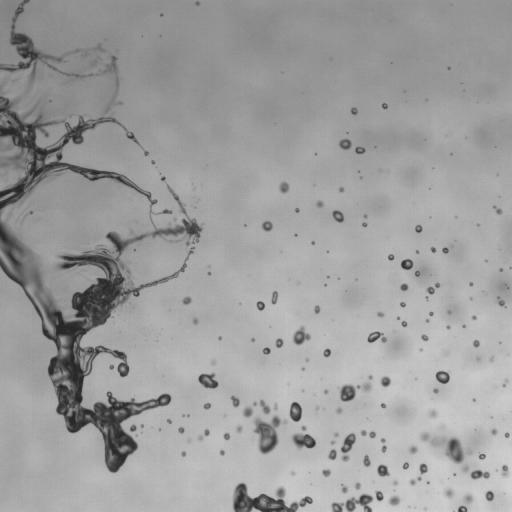droplet: (251, 414, 287, 453), (291, 433, 316, 450), (292, 325, 311, 345), (198, 372, 218, 388), (288, 400, 302, 421), (367, 331, 387, 343), (435, 370, 451, 383), (425, 282, 440, 294), (387, 495, 402, 506), (400, 258, 413, 270), (377, 464, 390, 476), (332, 210, 344, 222), (278, 181, 289, 194), (339, 138, 351, 149), (380, 376, 391, 388), (443, 487, 454, 499), (500, 464, 509, 478), (31, 40, 42, 51), (10, 52, 21, 63), (109, 106, 120, 117), (6, 175, 17, 186), (186, 209, 197, 220), (156, 217, 167, 228), (383, 312, 394, 323), (282, 334, 293, 345), (78, 336, 89, 347), (46, 345, 57, 356), (95, 352, 106, 363), (41, 375, 52, 386), (80, 382, 91, 393), (115, 391, 126, 402), (81, 398, 92, 409), (430, 398, 441, 409), (252, 406, 263, 417), (278, 408, 289, 419), (55, 415, 66, 426), (119, 419, 130, 430), (244, 419, 255, 430), (290, 421, 301, 432), (83, 422, 94, 433), (274, 425, 285, 436), (186, 426, 197, 437), (210, 429, 221, 440), (94, 438, 105, 449), (458, 438, 469, 449), (461, 454, 472, 465), (408, 464, 419, 475), (489, 469, 500, 480), (246, 487, 257, 498), (224, 491, 235, 502), (336, 492, 347, 503), (452, 495, 463, 506), (261, 221, 273, 231), (230, 395, 240, 407), (327, 448, 337, 460), (362, 454, 370, 467), (374, 490, 383, 501), (485, 490, 494, 501), (492, 205, 502, 214), (256, 301, 265, 311), (428, 408, 437, 418), (275, 337, 283, 348), (182, 296, 191, 305), (408, 445, 417, 454), (5, 91, 14, 100), (81, 129, 90, 138), (114, 165, 123, 174), (125, 171, 134, 180), (168, 200, 177, 209), (398, 290, 407, 299), (451, 322, 460, 331), (371, 377, 380, 386), (262, 414, 271, 423), (171, 419, 180, 428), (443, 431, 452, 440), (335, 437, 344, 446), (219, 439, 228, 448), (414, 439, 423, 448), (439, 440, 448, 449), (270, 446, 279, 455), (324, 459, 333, 468), (369, 460, 378, 469), (452, 462, 461, 471), (446, 479, 455, 488), (436, 483, 445, 492), (368, 499, 377, 508), (355, 146, 365, 154), (400, 283, 409, 291), (323, 348, 331, 357), (222, 432, 231, 440), (322, 468, 330, 477), (341, 483, 348, 493), (505, 295, 511, 306), (353, 505, 364, 511), (388, 505, 399, 511), (313, 305, 320, 314), (235, 424, 242, 433), (350, 107, 357, 115), (415, 225, 422, 233), (472, 339, 479, 347), (262, 347, 270, 354), (203, 402, 211, 409), (129, 424, 137, 431), (177, 426, 185, 433), (502, 378, 508, 387), (272, 402, 278, 411), (316, 200, 323, 207), (421, 334, 428, 341), (490, 428, 497, 435), (402, 462, 409, 469), (354, 482, 361, 489), (14, 26, 21, 33), (25, 30, 32, 37), (4, 33, 11, 40), (87, 53, 94, 60), (54, 61, 61, 68), (90, 66, 97, 73), (95, 123, 102, 130), (127, 125, 134, 132), (348, 145, 355, 152), (147, 152, 154, 159), (70, 158, 77, 165), (78, 160, 85, 167), (81, 161, 88, 168), (133, 178, 140, 185), (140, 183, 147, 190), (287, 185, 294, 192), (273, 186, 280, 193), (151, 204, 158, 211), (435, 245, 442, 252), (394, 257, 401, 264), (263, 298, 270, 305), (465, 318, 472, 325), (292, 324, 299, 331), (47, 339, 54, 346), (268, 342, 275, 349), (481, 355, 488, 362), (114, 357, 121, 364), (125, 358, 132, 365), (43, 359, 50, 366), (82, 375, 89, 382), (350, 379, 357, 386), (337, 380, 344, 387), (435, 381, 442, 388), (196, 382, 203, 389), (205, 386, 212, 393), (354, 388, 361, 395), (80, 389, 87, 396), (334, 389, 341, 396), (135, 395, 142, 402), (51, 399, 58, 406), (265, 399, 272, 406), (237, 403, 244, 410), (422, 408, 429, 415), (141, 409, 148, 416), (268, 409, 275, 416), (436, 409, 443, 416), (57, 414, 64, 421), (432, 416, 439, 423), (298, 417, 305, 424), (128, 430, 135, 437), (428, 430, 435, 437), (496, 430, 503, 437), (253, 432, 260, 439), (354, 432, 361, 439), (374, 432, 381, 439), (190, 433, 197, 440), (289, 441, 296, 448), (254, 449, 261, 456), (267, 449, 274, 456), (335, 450, 342, 457), (125, 454, 132, 461), (118, 464, 125, 471), (469, 464, 476, 471), (421, 472, 428, 479), (231, 479, 238, 486), (382, 494, 389, 501), (294, 495, 301, 502), (442, 496, 449, 503), (459, 499, 466, 506), (284, 500, 291, 507), (192, 317, 198, 325), (335, 407, 343, 413), (478, 453, 486, 459), (295, 506, 304, 511), (324, 506, 333, 511), (381, 102, 387, 109), (430, 246, 436, 253), (442, 247, 449, 253), (414, 270, 420, 277), (401, 320, 407, 327), (442, 350, 449, 356), (439, 423, 446, 429), (219, 449, 225, 456), (388, 254, 394, 260), (210, 359, 216, 365), (0, 68, 4, 77), (377, 312, 384, 317), (489, 355, 494, 362), (338, 187, 344, 192), (400, 302, 406, 307), (471, 315, 477, 320), (323, 389, 328, 395), (433, 388, 439, 393), (380, 403, 386, 408), (166, 418, 172, 423), (301, 425, 306, 431), (333, 432, 339, 437), (181, 451, 186, 457), (392, 480, 398, 485), (507, 380, 511, 387), (507, 466, 511, 473), (340, 507, 347, 511), (362, 222, 367, 227), (310, 240, 315, 245), (428, 311, 433, 316), (504, 432, 509, 437), (330, 440, 335, 445), (290, 470, 295, 475), (22, 3, 27, 8), (9, 11, 14, 16), (7, 20, 12, 25), (6, 26, 11, 31), (92, 41, 97, 46), (100, 43, 105, 48), (70, 45, 75, 50), (98, 51, 103, 56), (55, 52, 60, 57), (62, 55, 67, 60), (23, 57, 28, 62), (106, 58, 111, 63), (47, 59, 52, 64), (114, 59, 119, 64), (52, 61, 57, 66), (28, 64, 33, 69), (100, 65, 105, 70), (72, 68, 77, 73), (4, 69, 9, 74), (83, 69, 88, 74), (117, 72, 122, 77), (118, 79, 123, 84), (2, 93, 7, 98), (114, 96, 119, 101), (386, 102, 391, 107), (356, 106, 361, 111), (103, 112, 108, 117), (114, 115, 119, 120), (102, 121, 107, 126), (120, 129, 125, 134), (133, 133, 138, 138), (341, 134, 346, 139), (345, 134, 350, 139), (67, 138, 72, 143), (128, 138, 133, 143), (334, 139, 339, 144), (359, 142, 364, 147), (338, 147, 343, 152), (139, 150, 144, 155), (356, 153, 361, 158), (59, 157, 64, 162), (95, 165, 100, 170), (104, 166, 109, 171), (169, 183, 174, 188), (173, 188, 178, 193), (278, 191, 283, 196), (283, 191, 288, 196), (150, 194, 155, 199), (168, 194, 173, 199), (178, 196, 183, 201), (312, 198, 317, 203), (172, 199, 177, 204), (322, 200, 327, 205), (496, 203, 501, 208), (312, 204, 317, 209), (184, 206, 189, 211), (318, 206, 323, 211), (337, 206, 342, 211), (490, 208, 495, 213), (163, 212, 168, 217), (180, 213, 185, 218), (342, 213, 347, 218), (495, 213, 500, 218), (262, 216, 267, 221), (329, 216, 334, 221), (361, 217, 366, 222), (270, 219, 275, 224), (333, 220, 338, 225), (178, 221, 183, 226), (259, 228, 264, 233), (265, 230, 270, 235), (193, 242, 198, 247), (188, 253, 193, 258), (400, 255, 405, 260), (396, 263, 401, 268), (502, 265, 507, 270), (410, 266, 415, 271), (402, 268, 407, 273), (6, 277, 11, 282), (167, 278, 172, 283), (324, 278, 329, 283), (397, 280, 402, 285), (438, 280, 443, 285), (156, 282, 161, 287), (15, 283, 20, 288), (150, 284, 155, 289), (433, 287, 438, 292), (138, 288, 143, 293), (402, 289, 407, 294), (182, 292, 187, 297), (190, 296, 195, 301), (276, 296, 281, 301), (401, 297, 406, 302), (122, 301, 127, 306), (186, 302, 191, 307), (28, 303, 33, 308), (494, 303, 499, 308), (252, 305, 257, 310), (498, 305, 503, 310), (309, 307, 314, 312), (319, 307, 324, 312), (378, 307, 383, 312), (32, 310, 37, 315), (424, 313, 429, 318), (466, 314, 471, 319), (35, 315, 40, 320), (375, 315, 380, 320), (428, 315, 433, 320), (105, 317, 110, 322), (197, 318, 202, 323), (187, 319, 192, 324), (396, 319, 401, 324), (37, 327, 42, 332), (303, 328, 308, 333), (423, 330, 428, 335), (382, 332, 387, 337), (363, 333, 368, 338), (42, 335, 47, 340), (376, 337, 381, 342), (418, 338, 423, 343), (302, 339, 307, 344), (478, 339, 483, 344), (382, 341, 387, 346), (468, 342, 473, 347), (109, 345, 114, 350), (117, 346, 122, 351), (473, 346, 478, 351), (329, 347, 334, 352), (318, 350, 323, 355), (329, 351, 334, 356), (265, 353, 270, 358), (301, 361, 306, 366), (112, 366, 117, 371), (436, 366, 441, 371), (441, 366, 446, 371), (43, 368, 48, 373), (127, 369, 132, 374), (206, 369, 211, 374), (114, 371, 119, 376), (195, 371, 200, 376), (193, 375, 198, 380), (212, 375, 217, 380), (363, 376, 368, 381), (448, 376, 453, 381), (389, 378, 394, 383), (445, 381, 450, 386), (324, 384, 329, 389), (386, 384, 391, 389), (497, 384, 502, 389), (213, 386, 218, 391), (165, 389, 170, 394), (111, 392, 116, 397), (432, 392, 437, 397), (169, 393, 174, 398), (234, 393, 239, 398), (227, 398, 232, 403), (381, 398, 386, 403), (346, 399, 351, 404), (168, 400, 173, 405), (298, 401, 303, 406), (268, 404, 273, 409), (156, 405, 161, 410), (434, 406, 439, 411), (145, 408, 150, 413), (204, 408, 209, 413), (317, 408, 322, 413), (300, 411, 305, 416), (337, 412, 342, 417), (299, 415, 304, 420), (287, 417, 292, 422), (179, 422, 184, 427), (251, 424, 256, 429), (488, 424, 493, 429), (135, 425, 140, 430), (183, 427, 188, 432), (331, 427, 336, 432), (222, 428, 227, 433), (365, 428, 370, 433), (199, 429, 204, 434), (208, 429, 213, 434), (302, 429, 307, 434), (219, 430, 224, 435), (486, 430, 491, 435), (67, 431, 72, 436), (175, 431, 180, 436), (309, 432, 314, 437), (364, 433, 369, 438), (202, 434, 207, 439), (329, 435, 334, 440), (132, 436, 137, 441), (219, 436, 224, 441), (228, 436, 233, 441), (314, 439, 319, 444), (383, 440, 388, 445), (378, 441, 383, 446), (351, 442, 356, 447), (329, 444, 334, 449), (301, 445, 306, 450), (310, 446, 315, 451), (223, 448, 228, 453), (132, 449, 137, 454), (324, 450, 329, 455), (359, 455, 364, 460), (368, 456, 373, 461), (342, 460, 347, 465), (381, 460, 386, 465), (424, 460, 429, 465), (426, 464, 431, 469), (362, 465, 367, 470), (103, 466, 108, 471), (497, 466, 502, 471), (386, 467, 391, 472), (480, 467, 485, 472), (415, 469, 420, 474), (488, 470, 493, 475), (109, 471, 114, 476), (465, 471, 470, 476), (328, 472, 333, 477), (319, 473, 324, 478), (488, 473, 493, 478), (382, 474, 387, 479), (355, 477, 360, 482), (237, 478, 242, 483), (415, 480, 420, 485), (343, 481, 348, 486), (405, 481, 410, 486), (409, 484, 414, 489), (337, 485, 342, 490), (484, 486, 489, 491), (490, 487, 495, 492), (462, 490, 467, 495), (492, 490, 497, 495), (307, 492, 312, 497), (299, 493, 304, 498), (371, 493, 376, 498), (480, 493, 485, 498), (354, 494, 359, 499), (492, 495, 497, 500), (481, 496, 486, 501), (304, 502, 309, 507), (453, 506, 458, 511), (187, 437, 191, 443), (0, 166, 3, 173), (0, 184, 3, 191), (0, 268, 3, 275), (294, 208, 299, 212), (363, 213, 367, 218), (415, 249, 419, 254), (251, 337, 255, 342), (305, 357, 309, 362), (476, 356, 480, 361), (109, 364, 113, 369), (301, 366, 305, 371), (195, 1, 199, 5), (151, 160, 155, 164), (207, 271, 211, 275), (469, 282, 473, 286), (447, 310, 451, 314), (425, 318, 429, 322), (446, 325, 450, 329), (218, 336, 222, 340), (423, 507, 427, 511), (425, 296, 428, 301), (508, 433, 511, 438), (408, 508, 413, 511), (447, 66, 450, 70), (207, 264, 210, 268), (499, 268, 503, 271), (326, 275, 330, 278), (469, 296, 472, 300), (396, 316, 400, 319), (462, 324, 466, 327), (419, 348, 423, 351), (472, 398, 476, 401), (140, 424, 143, 428), (158, 427, 161, 431), (453, 472, 456, 476), (17, 0, 22, 2), (160, 13, 163, 16), (314, 152, 317, 155), (476, 223, 479, 226), (294, 233, 297, 236), (326, 250, 329, 253), (484, 259, 487, 262), (324, 283, 327, 286), (498, 341, 501, 344), (414, 377, 417, 380), (301, 389, 304, 392), (223, 414, 226, 417), (426, 481, 429, 484), (193, 4, 196, 7), (14, 5, 17, 8), (162, 11, 165, 14), (18, 12, 21, 15), (156, 13, 159, 16), (160, 15, 163, 18), (77, 51, 80, 54), (114, 54, 117, 57), (447, 63, 450, 66), (444, 67, 447, 70), (447, 69, 450, 72), (66, 70, 69, 73), (78, 72, 81, 75), (380, 100, 383, 103), (384, 100, 387, 103), (351, 104, 354, 107), (380, 107, 383, 110), (383, 108, 386, 111), (350, 113, 353, 116), (124, 124, 127, 127), (120, 127, 123, 130), (345, 128, 348, 131), (364, 147, 367, 150), (146, 148, 149, 151), (316, 151, 319, 154), (311, 152, 314, 155), (145, 155, 148, 158), (153, 158, 156, 161), (148, 161, 151, 164), (152, 163, 155, 166), (359, 169, 362, 172), (358, 172, 361, 175), (160, 173, 163, 176), (356, 176, 359, 179), (164, 177, 167, 180), (161, 180, 164, 183), (343, 187, 346, 190), (335, 188, 338, 191), (339, 191, 342, 194), (295, 204, 298, 207), (292, 206, 295, 209), (167, 207, 170, 210), (298, 207, 301, 210), (293, 211, 296, 214), (296, 211, 299, 214), (329, 212, 332, 215), (366, 214, 369, 217), (243, 220, 246, 223), (476, 220, 479, 223), (416, 221, 419, 224), (240, 223, 243, 226), (479, 223, 482, 226), (366, 224, 369, 227), (243, 226, 246, 229), (362, 226, 365, 229), (294, 230, 297, 233), (419, 230, 422, 233), (414, 231, 417, 234), (295, 235, 298, 238), (308, 239, 311, 242), (314, 241, 317, 244), (190, 243, 193, 246), (309, 243, 312, 246), (444, 244, 447, 247), (447, 247, 450, 250), (418, 249, 421, 252), (428, 249, 431, 252), (323, 250, 326, 253), (328, 250, 331, 253), (442, 252, 445, 255), (445, 252, 448, 255), (408, 256, 411, 259), (388, 259, 391, 262), (487, 259, 490, 262), (185, 260, 188, 263), (483, 261, 486, 264), (499, 264, 502, 267), (496, 267, 499, 270), (207, 268, 210, 271), (418, 269, 421, 272), (178, 271, 181, 274), (204, 271, 207, 274), (210, 271, 213, 274), (499, 271, 502, 274), (326, 272, 329, 275), (207, 274, 210, 277), (412, 274, 415, 277), (418, 274, 421, 277), (323, 275, 326, 278), (336, 279, 339, 282), (472, 281, 475, 284), (466, 282, 469, 285), (506, 283, 509, 286), (503, 285, 506, 288), (323, 286, 326, 289), (426, 292, 429, 295), (496, 292, 499, 295), (136, 295, 139, 298), (493, 296, 496, 299), (423, 297, 426, 300), (179, 300, 182, 303), (314, 302, 317, 305), (504, 302, 507, 305), (273, 303, 276, 306), (397, 304, 400, 307), (263, 306, 266, 309), (400, 306, 403, 309), (430, 308, 433, 311), (260, 309, 263, 312), (432, 312, 435, 315), (475, 314, 478, 317), (393, 316, 396, 319), (404, 318, 407, 321), (422, 318, 425, 321), (472, 319, 475, 322), (424, 321, 427, 324), (461, 321, 464, 324), (406, 322, 409, 325), (444, 322, 447, 325), (449, 323, 452, 326), (399, 324, 402, 327), (465, 324, 468, 327), (443, 326, 446, 329), (461, 327, 464, 330), (447, 328, 450, 331), (370, 329, 373, 332), (378, 329, 381, 332), (215, 335, 218, 338), (277, 335, 280, 338), (221, 336, 224, 339), (248, 336, 251, 339), (471, 338, 474, 341), (498, 338, 501, 341), (254, 339, 257, 342), (250, 341, 253, 344), (499, 343, 502, 346), (103, 344, 106, 347), (264, 344, 267, 347), (280, 345, 283, 348), (323, 346, 326, 349), (416, 349, 419, 352), (420, 350, 423, 353), (488, 354, 491, 357), (324, 356, 327, 359), (493, 356, 496, 359), (106, 366, 109, 369), (298, 366, 301, 369), (304, 367, 307, 370), (90, 368, 93, 371), (299, 369, 302, 372), (433, 371, 436, 374), (123, 375, 126, 378), (369, 379, 372, 382), (501, 380, 504, 383), (505, 383, 508, 386), (321, 387, 324, 390), (430, 387, 433, 390), (108, 388, 111, 391), (104, 389, 107, 392), (320, 391, 323, 394), (259, 396, 262, 399), (474, 396, 477, 399), (469, 398, 472, 401), (203, 400, 206, 403), (208, 400, 211, 403), (256, 400, 259, 403), (472, 401, 475, 404), (200, 404, 203, 407), (209, 405, 212, 408), (319, 405, 322, 408), (378, 405, 381, 408), (341, 410, 344, 413), (184, 412, 187, 415), (489, 412, 492, 415), (178, 413, 181, 416), (189, 413, 192, 416), (184, 415, 187, 418), (169, 417, 172, 420), (165, 421, 168, 424), (168, 423, 171, 426), (143, 424, 146, 427), (155, 426, 158, 429), (160, 428, 163, 431), (175, 428, 178, 431), (228, 432, 231, 435), (491, 434, 494, 437), (370, 437, 373, 440), (385, 447, 388, 450), (180, 448, 183, 451), (216, 450, 219, 453), (479, 450, 482, 453), (178, 452, 181, 455), (185, 452, 188, 455), (223, 452, 226, 455), (475, 455, 478, 458), (484, 456, 487, 459), (479, 458, 482, 461), (400, 462, 403, 465), (406, 467, 409, 470), (449, 472, 452, 475), (455, 472, 458, 475), (426, 483, 429, 486), (376, 488, 379, 491), (450, 152, 452, 155), (357, 170, 359, 173), (496, 173, 498, 176), (360, 176, 362, 179), (454, 216, 457, 218), (244, 224, 247, 226), (509, 266, 511, 269), (337, 277, 340, 279), (355, 278, 357, 281), (239, 302, 241, 305), (490, 416, 493, 418), (474, 429, 476, 432), (135, 434, 137, 437), (408, 505, 410, 508), (509, 263, 511, 266), (509, 268, 511, 271), (509, 286, 511, 289), (421, 509, 424, 511), (425, 509, 428, 511), (466, 509, 469, 511), (429, 216, 431, 218), (269, 325, 271, 327), (366, 417, 368, 419), (393, 489, 395, 491), (194, 0, 197, 1), (197, 0, 200, 1), (346, 132, 348, 133), (374, 146, 376, 147), (432, 167, 434, 168), (132, 306, 134, 307), (323, 408, 325, 409), (496, 469, 497, 471)
ligament: (443, 436, 490, 479), (337, 374, 373, 401), (330, 493, 373, 511), (242, 399, 270, 418), (339, 432, 356, 461), (409, 461, 428, 485), (452, 493, 473, 511), (419, 431, 441, 447), (21, 208, 40, 222), (126, 218, 148, 227), (89, 55, 103, 67), (197, 428, 209, 441), (359, 430, 376, 439), (270, 290, 279, 305), (495, 296, 506, 308), (380, 438, 386, 453), (191, 182, 196, 191), (315, 405, 319, 413), (182, 414, 189, 417), (173, 215, 176, 221), (191, 205, 196, 208), (506, 285, 509, 289), (465, 136, 466, 138)
